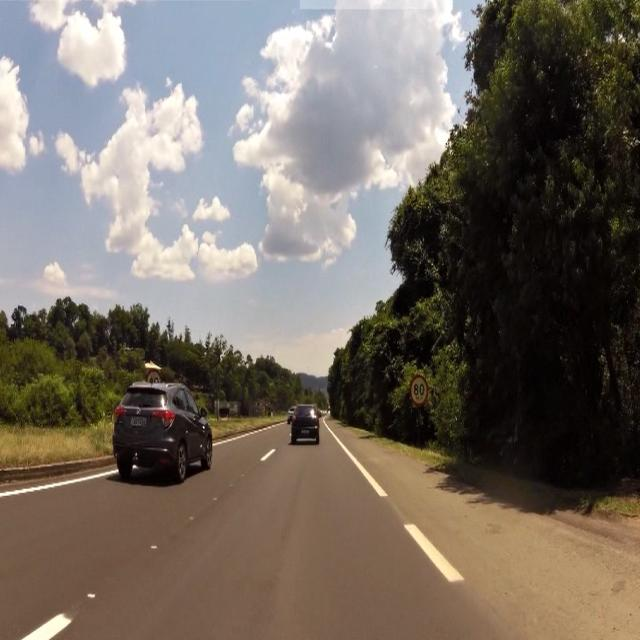R-19: (412, 374, 427, 405), (145, 366, 162, 385)
